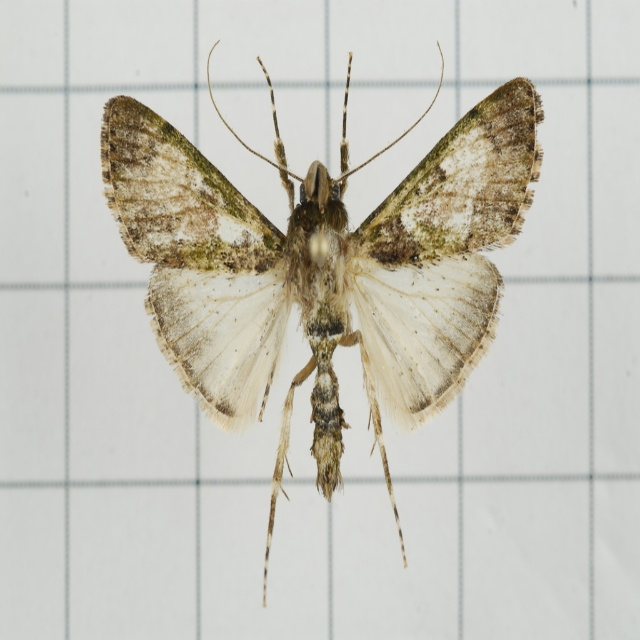Butterfly: (82, 31, 556, 596)
